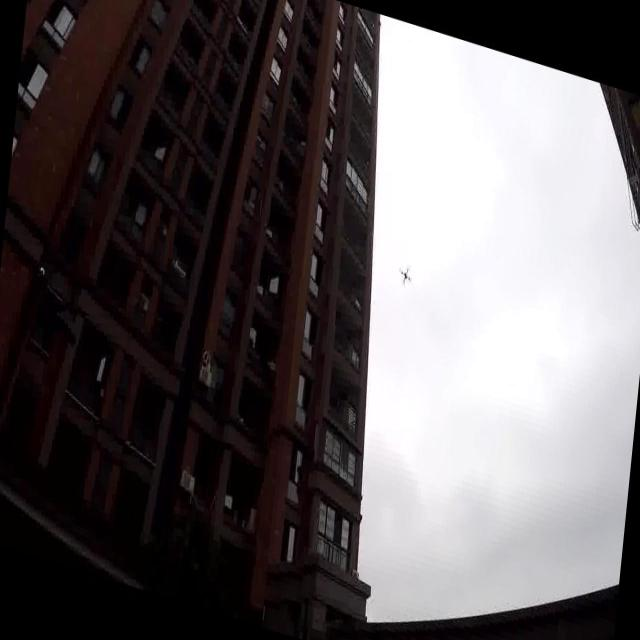drone: (398, 260, 414, 290)
